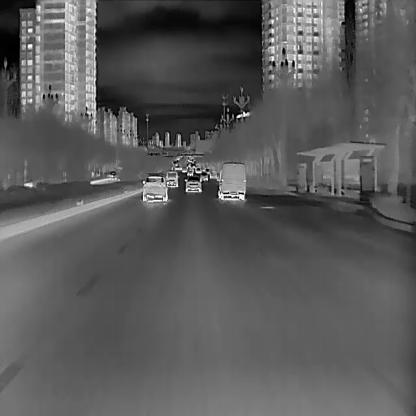car: (217, 162, 245, 200), (141, 174, 167, 202), (184, 175, 201, 191), (165, 171, 178, 187), (209, 170, 217, 179), (186, 168, 193, 176), (200, 173, 206, 181)
